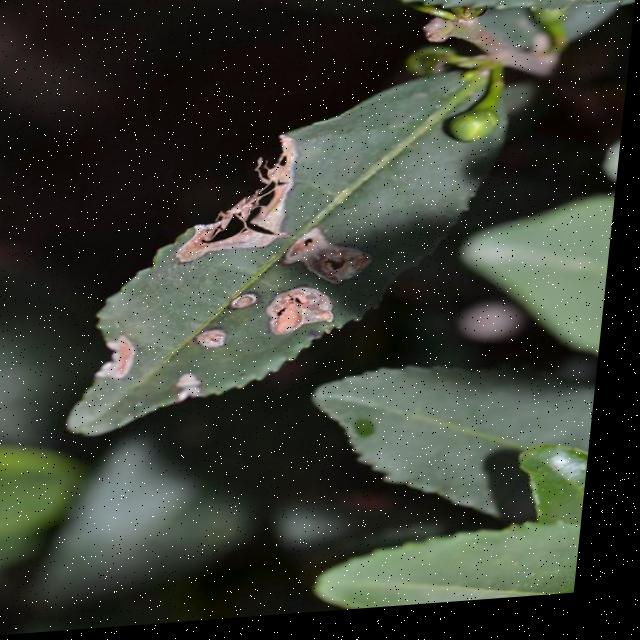Tea cloud leaf blight: (165, 119, 330, 274), (260, 281, 368, 351), (280, 236, 404, 286), (94, 331, 148, 389), (177, 372, 227, 412), (191, 331, 252, 361), (233, 286, 267, 318)
